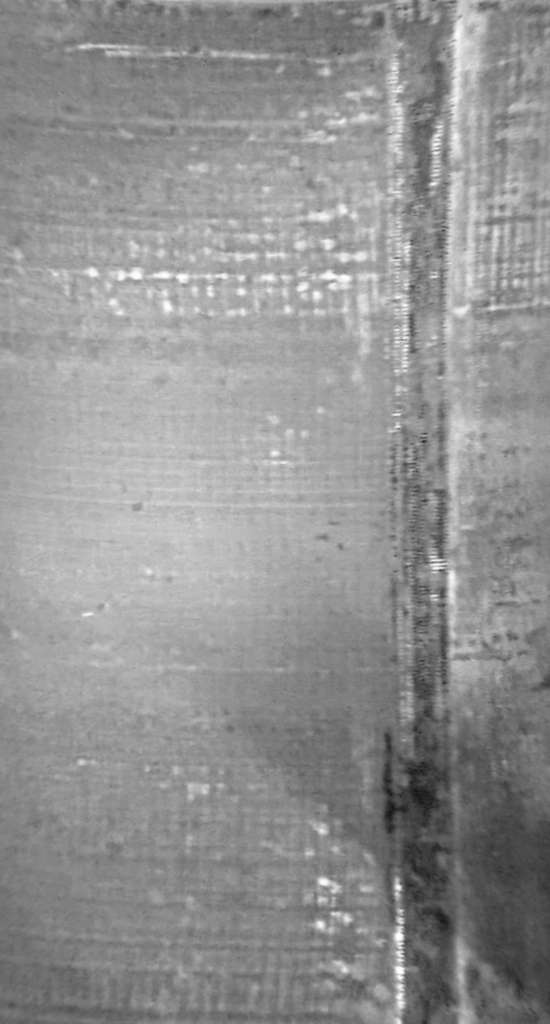splice: (382, 3, 464, 1024)
